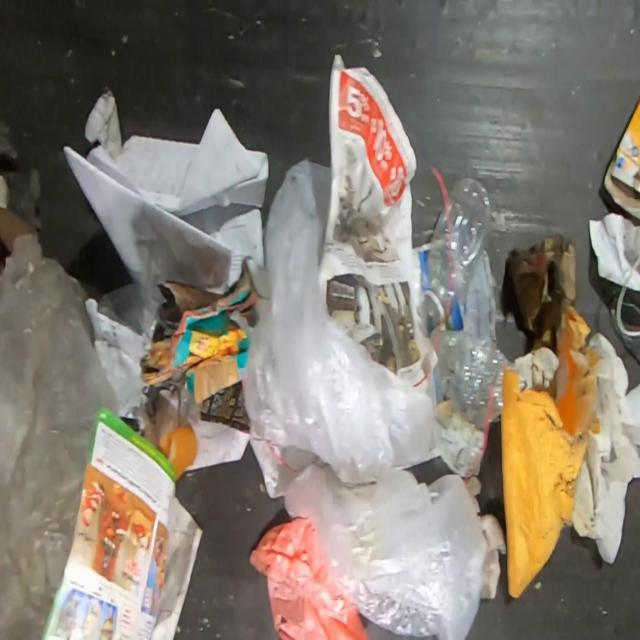cardboard: (500, 305, 601, 598), (143, 255, 265, 407), (502, 234, 576, 363), (602, 89, 640, 232)
rigid_plastic: (413, 175, 494, 331), (441, 325, 528, 429)
soft_plastic: (244, 158, 486, 640), (0, 233, 122, 640), (0, 117, 41, 229)
